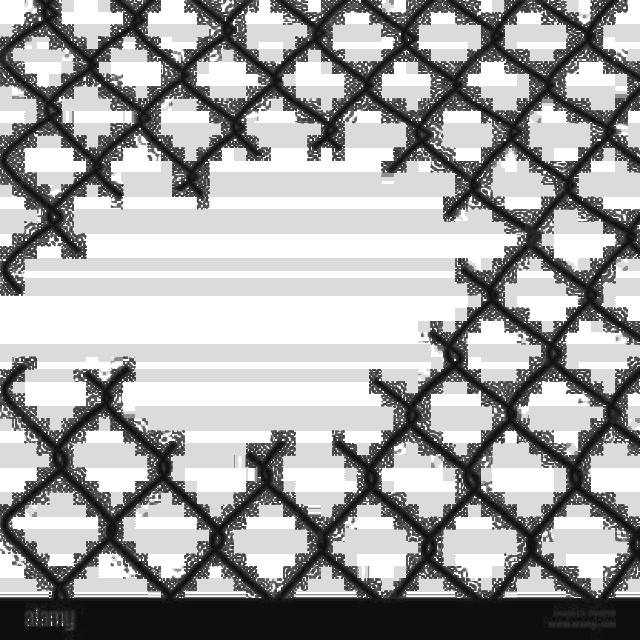anomaly-fence: (0, 113, 502, 454)
